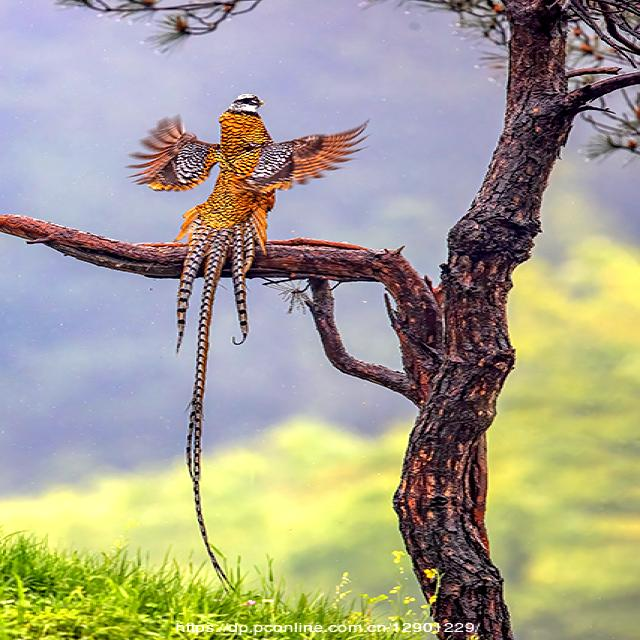Reeves-s Pheasant: (170, 216, 260, 596)
